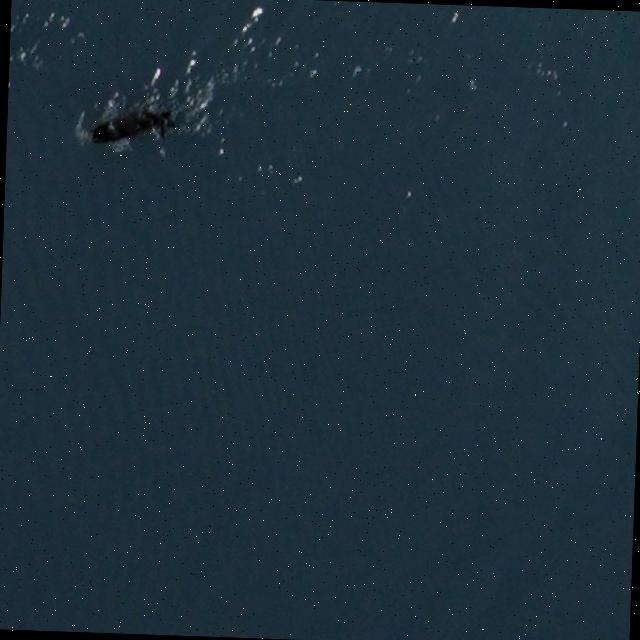seal: (86, 106, 175, 144)
